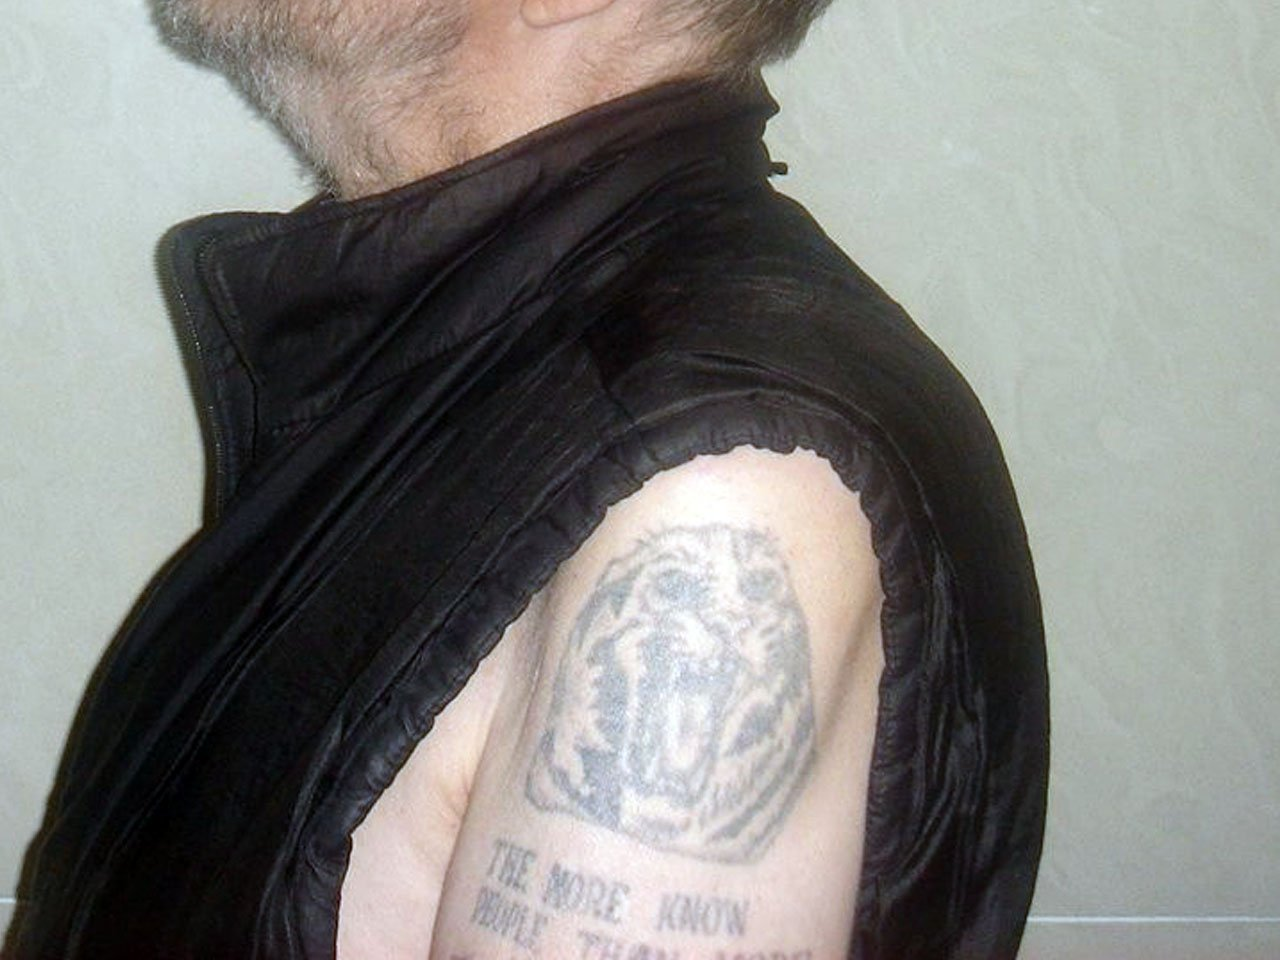tatu3_bukva: (443, 820, 830, 960)
tatu5_tigr: (505, 434, 829, 871)
